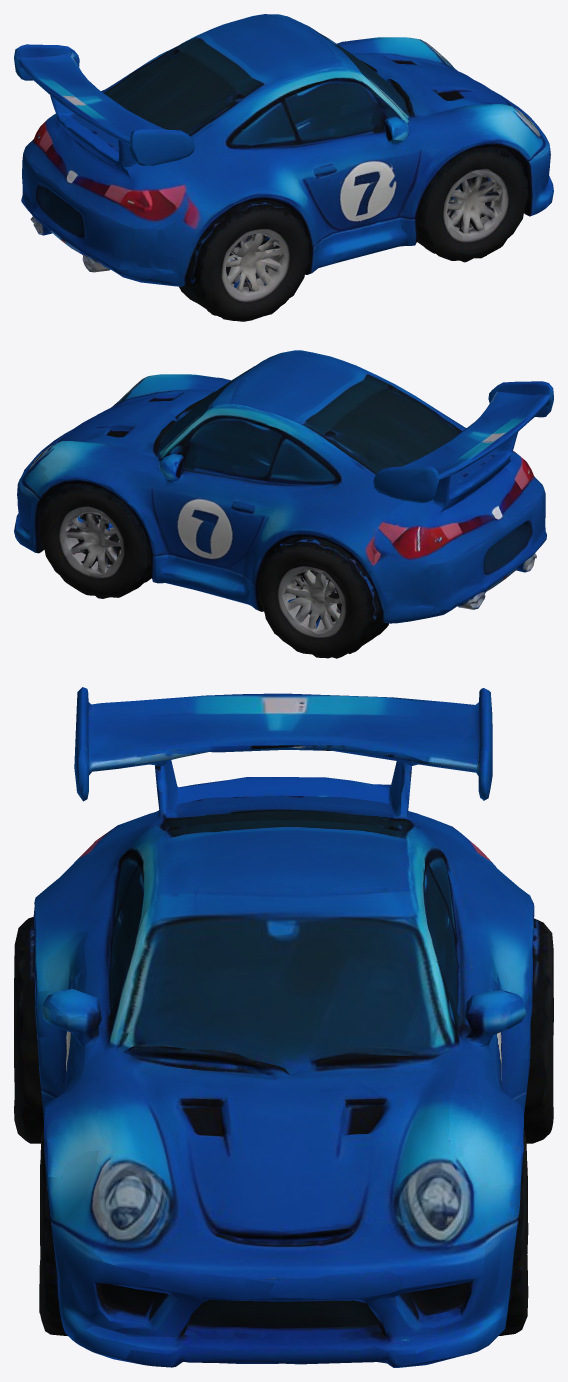
The model's file is blue.glb.
The picture shows the model from 3 angles, top to bottom: view 1: azimuth 30°, elevation 25°; view 2: azimuth 150°, elevation 25°; view 3: azimuth 270°, elevation 25°; orthographic projection. The views are drawn at different scales.
Size of the model in its own units: 1.99 by 0.8525 by 1.16.
1 material, 1 textured.
